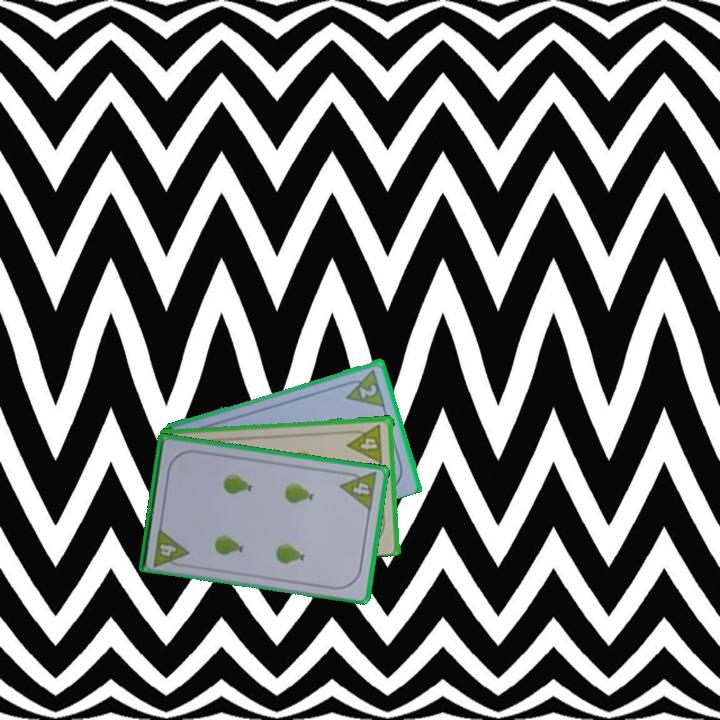2p: (339, 365, 388, 409)
4p: (337, 467, 380, 513), (344, 420, 386, 465), (150, 524, 191, 570)
